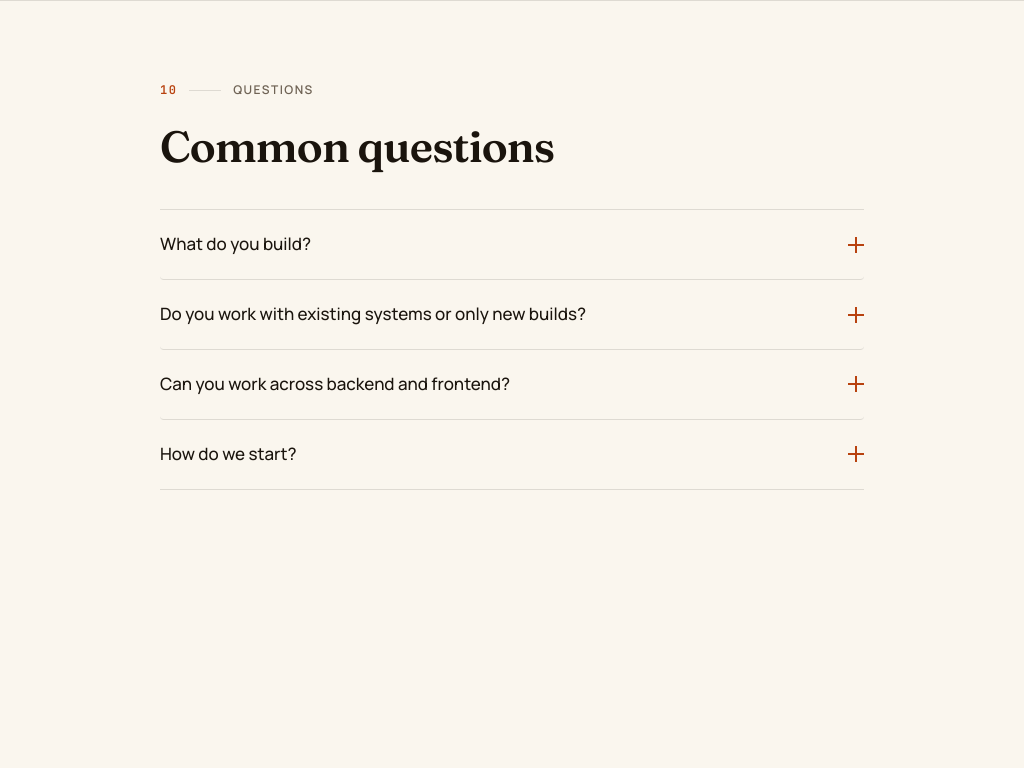
Test: ClientFaq › opens a question on click and exposes its answer text
What coordinates should you click on to do the following:
click the heading "What do you build?"
I would click on:
 (236, 244)
Its box is [160,232,864,255].
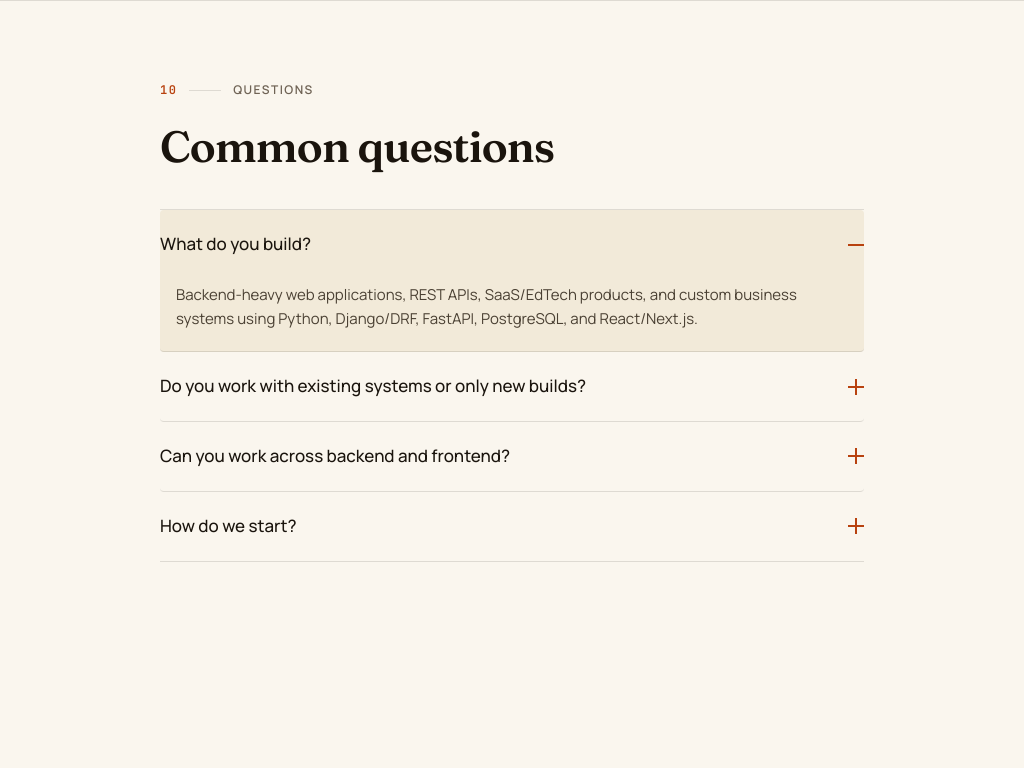
expect the text "Backend-heavy web applications, REST APIs, SaaS/EdTech products, and custom business systems using Python, Django/DRF, F" is shown: met, box [176,284,797,329]
